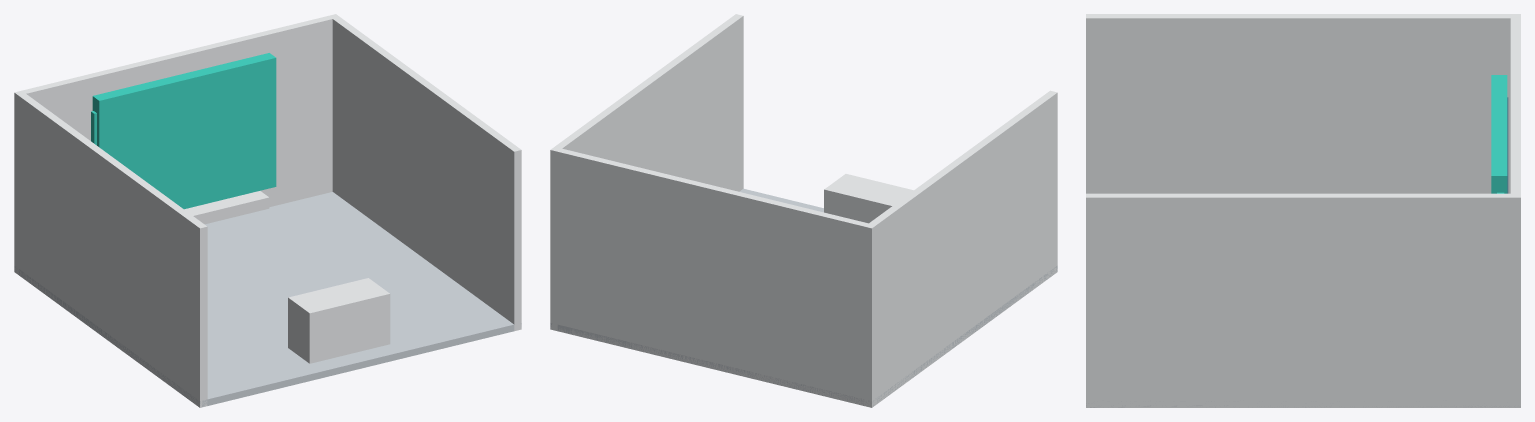
3 views of the same model, side by side, from view 1: azimuth 30°, elevation 25°; view 2: azimuth 150°, elevation 25°; view 3: azimuth 270°, elevation 25° (orthographic). The views are drawn at different scales.
Parts seen in each view (by area): view 1: Exhibition Booth Concept; view 2: Exhibition Booth Concept; view 3: Exhibition Booth Concept.
Boxes of the visible parts, left/top/right/bottom form: Exhibition Booth Concept: left=14, top=14, right=521, bottom=407; Exhibition Booth Concept: left=550, top=14, right=1057, bottom=407; Exhibition Booth Concept: left=1086, top=14, right=1520, bottom=407.
Size of the model in its own units: 6 by 3.2 by 6.
